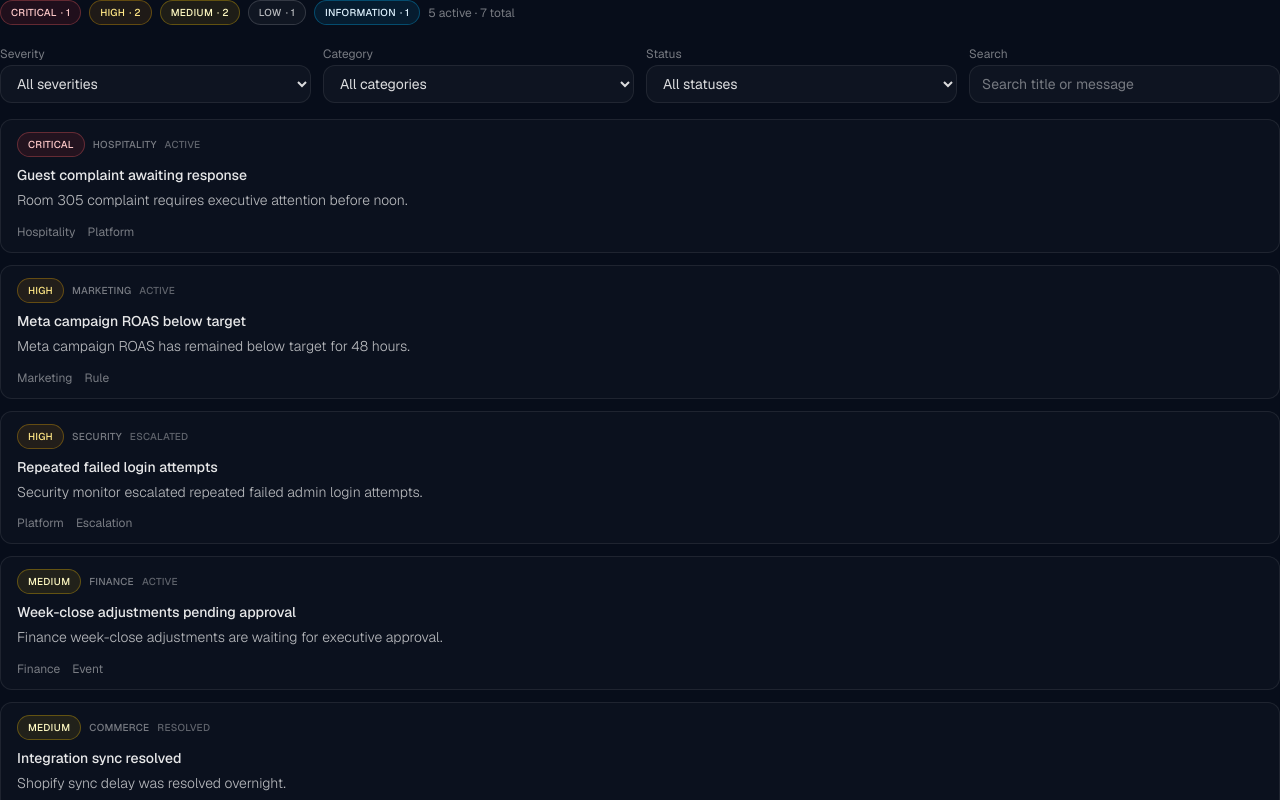
Test case: AlertCenter integration › shows the empty state when filters exclude all alerts
Type "does-not-exist" into the field named "Search alerts" at (1124, 84), box [969,65,1279,103]
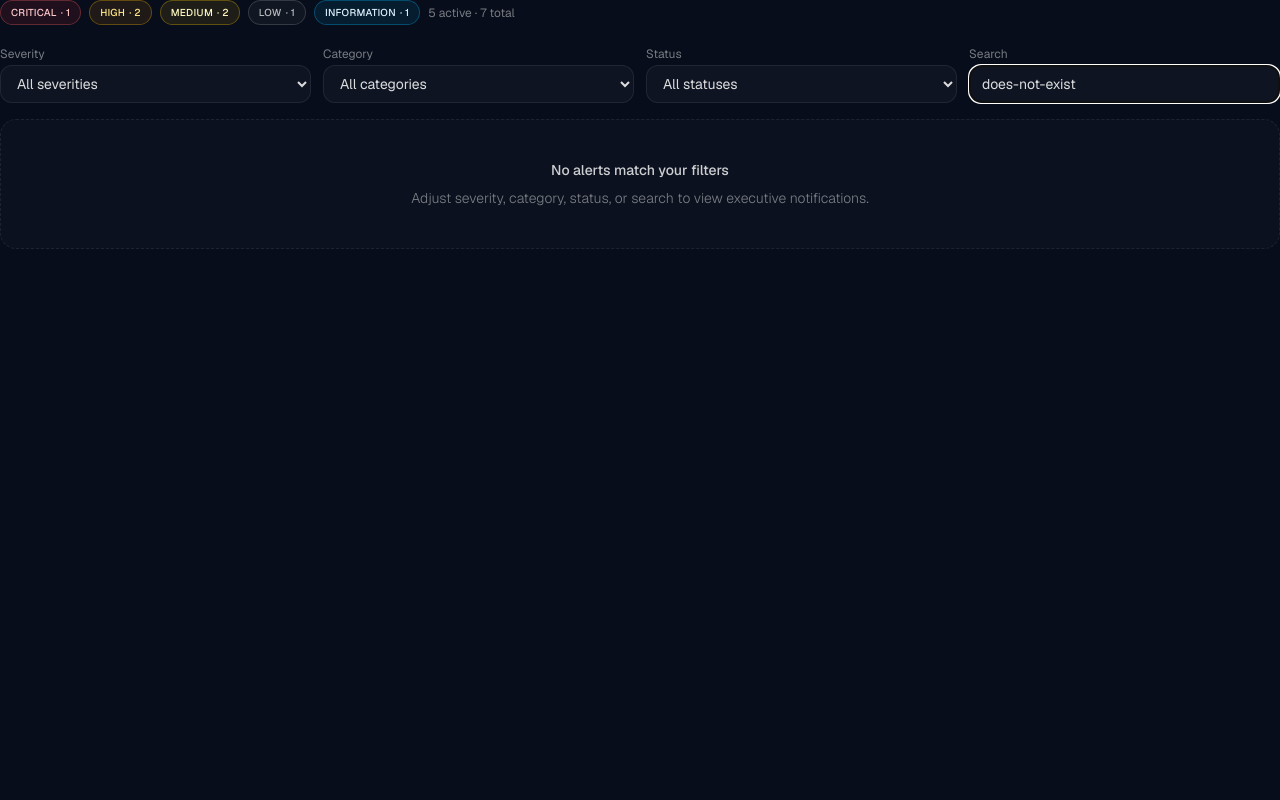
Now the text "No alerts match your filters" is shown, box [551,161,729,179]
